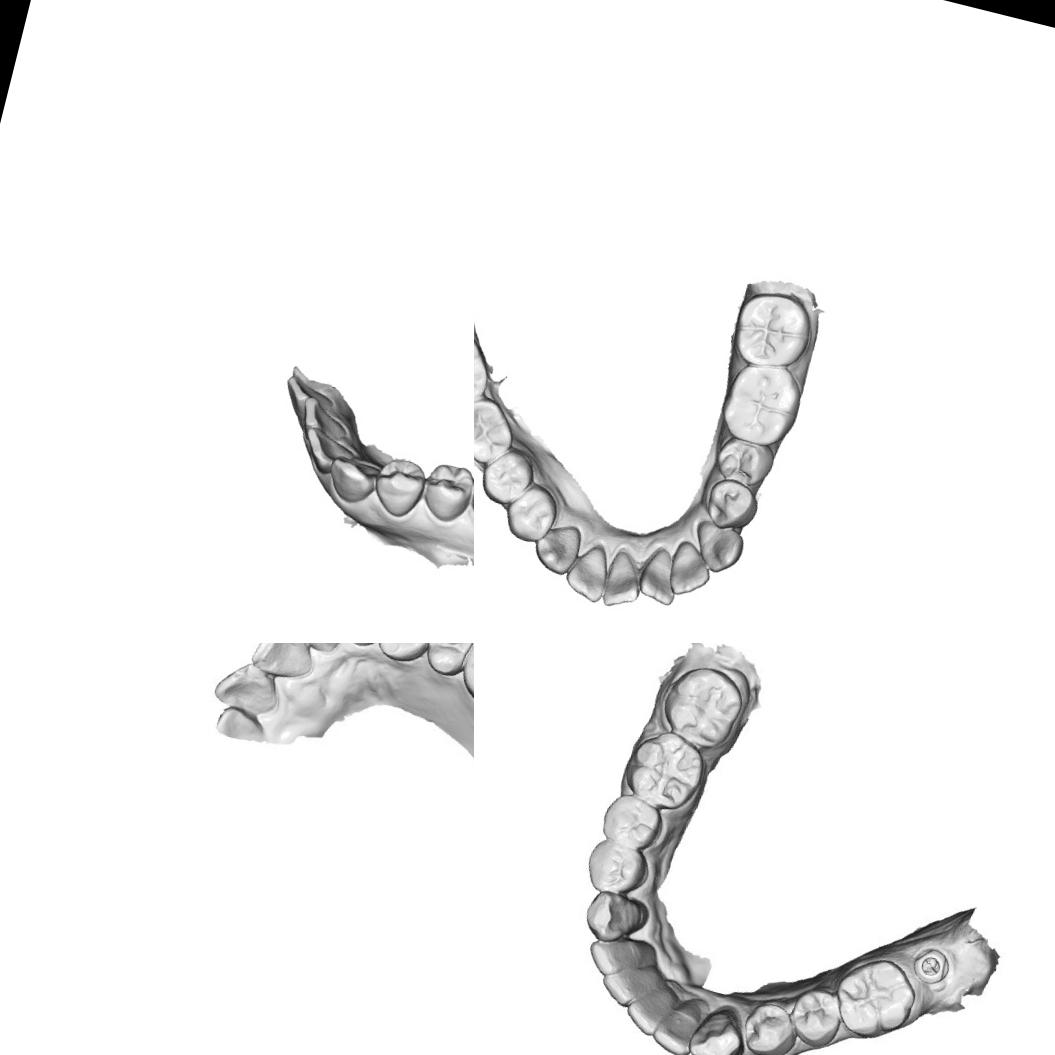canine: (682, 992, 754, 1055), (576, 887, 649, 948), (686, 518, 748, 578), (527, 516, 585, 580), (322, 453, 384, 508)
implant: (907, 938, 956, 991)
incisor: (210, 653, 288, 720), (592, 956, 664, 1016), (582, 931, 654, 987), (560, 534, 616, 605), (296, 421, 362, 480), (646, 989, 704, 1055), (620, 978, 677, 1041), (599, 546, 649, 614), (633, 542, 685, 607), (664, 537, 716, 601), (276, 371, 340, 422), (294, 394, 354, 448), (247, 643, 318, 687), (280, 643, 349, 659)
molar: (824, 946, 924, 1050), (654, 656, 750, 754), (714, 356, 808, 453), (726, 284, 818, 376), (622, 724, 712, 816), (474, 389, 522, 470), (474, 319, 499, 415)
premolar: (594, 787, 668, 856), (580, 835, 654, 902), (781, 981, 848, 1050), (474, 440, 540, 510), (368, 452, 432, 522), (499, 477, 563, 547), (733, 995, 804, 1055), (416, 458, 474, 527), (700, 474, 763, 536), (710, 432, 776, 490), (417, 643, 474, 684), (365, 643, 441, 670)
